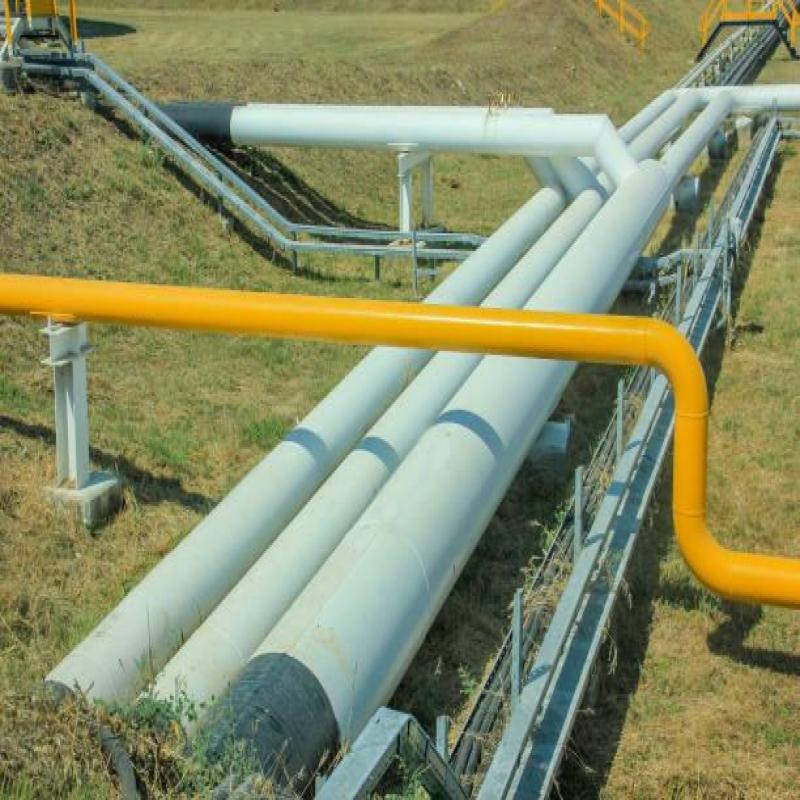Healthy: (136, 85, 699, 685), (12, 257, 705, 366)
